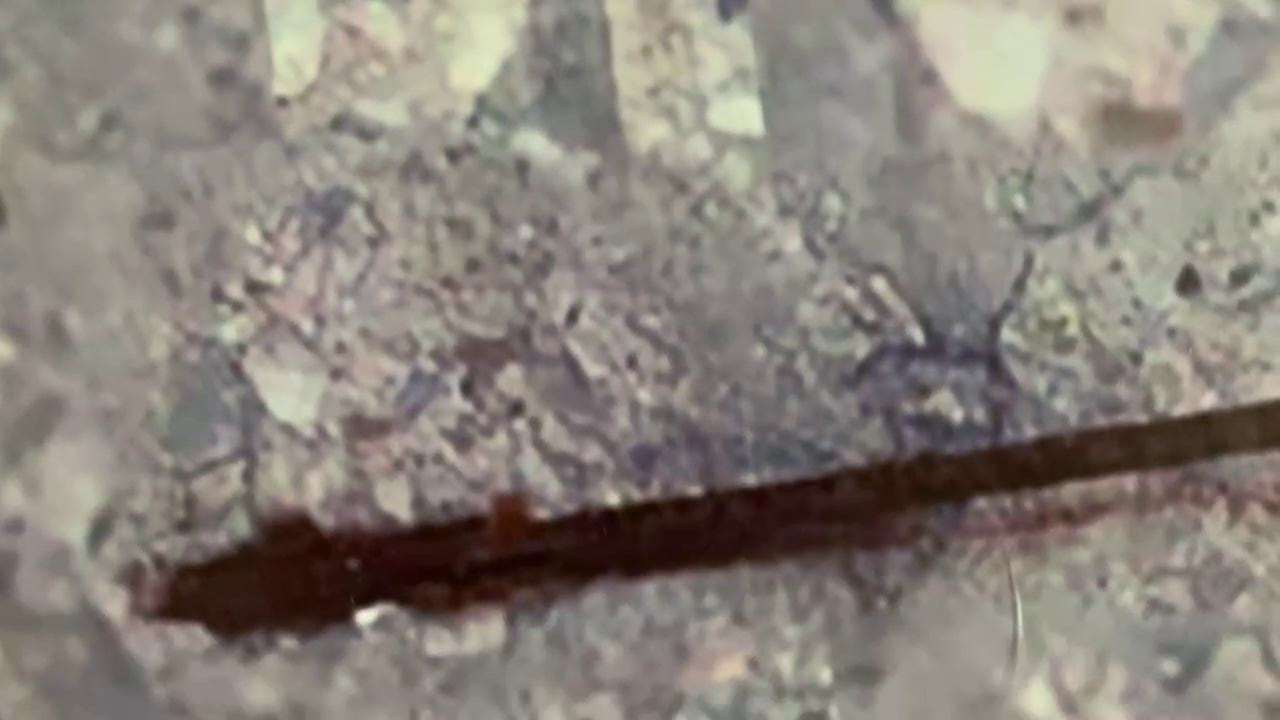Exposed reinforcement: (142, 393, 1280, 634)
